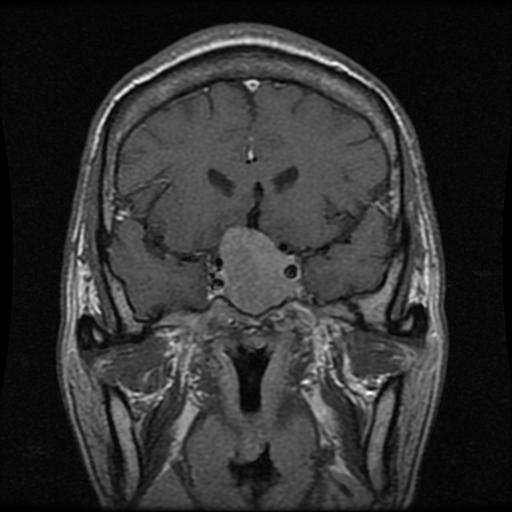Pituirity_tumour: (222, 228, 286, 310)
